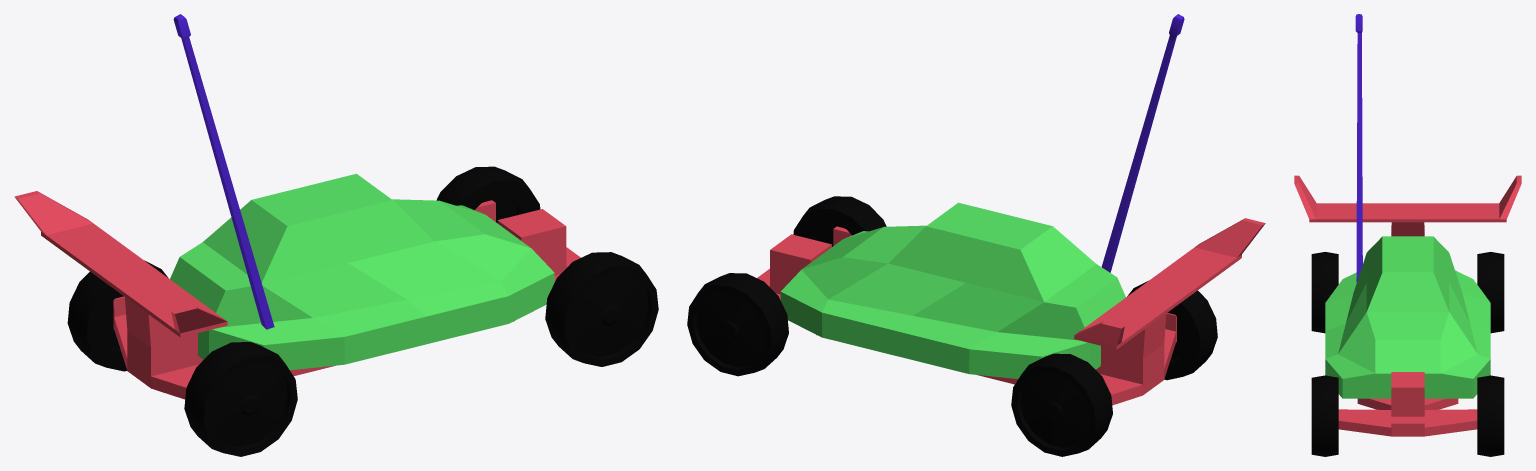
Rendered from car.gltf.
The picture shows the model from 3 angles, left to right: view 1: azimuth 30°, elevation 25°; view 2: azimuth 150°, elevation 25°; view 3: azimuth 270°, elevation 25°; orthographic projection. The views are drawn at different scales.
Parts seen in each view (by area): view 1: BODY, SOCLE, FRONT_RIGHT, BACK_RIGHT, BACK_LEFT, ANTENNE, FRONT_LEFT; view 2: BODY, SOCLE, BACK_LEFT, FRONT_LEFT, BACK_RIGHT, FRONT_RIGHT, ANTENNE; view 3: BODY, SOCLE, FRONT_RIGHT, FRONT_LEFT, BACK_LEFT, BACK_RIGHT, ANTENNE.
Part boxes in pixels (x1,y1,x2,y2): BODY: [170, 173, 554, 370]; SOCLE: [14, 191, 580, 399]; FRONT_RIGHT: [545, 252, 658, 366]; BACK_RIGHT: [184, 342, 297, 456]; BACK_LEFT: [67, 260, 168, 371]; ANTENNE: [173, 14, 274, 329]; FRONT_LEFT: [436, 166, 540, 223]; BODY: [780, 202, 1125, 378]; SOCLE: [757, 218, 1265, 405]; BACK_LEFT: [1011, 353, 1112, 456]; FRONT_LEFT: [687, 273, 788, 376]; BACK_RIGHT: [1127, 281, 1217, 380]; FRONT_RIGHT: [793, 196, 886, 246]; ANTENNE: [1101, 14, 1184, 272]; BODY: [1325, 236, 1490, 398]; SOCLE: [1294, 175, 1521, 436]; FRONT_RIGHT: [1311, 375, 1338, 456]; FRONT_LEFT: [1477, 375, 1504, 456]; BACK_LEFT: [1477, 252, 1504, 333]; BACK_RIGHT: [1311, 252, 1338, 333]; ANTENNE: [1355, 14, 1362, 282].
Bounding box in the file's own units: 6.1 × 4.98 × 3.4.
